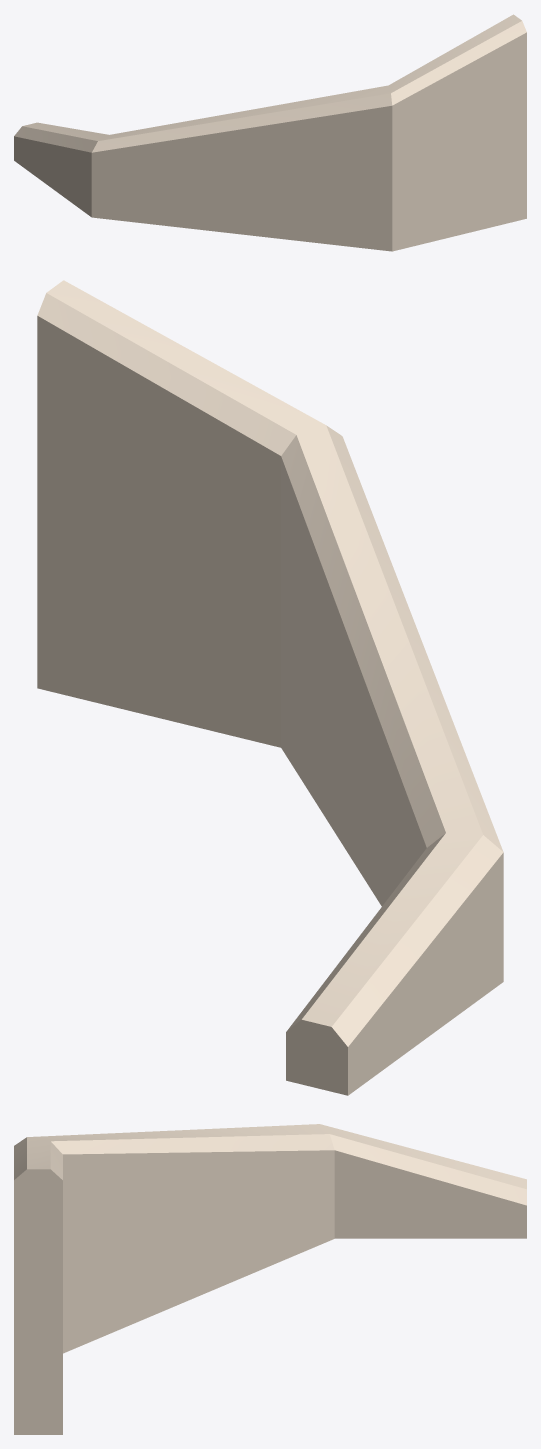
Rendered from temple_Stairs_Coping_Ramp_Curved_Large.glb.
3 views of the same model, one above another, from view 1: azimuth 30°, elevation 25°; view 2: azimuth 150°, elevation 25°; view 3: azimuth 270°, elevation 25° (orthographic). The views are drawn at different scales.
Visible parts, largest first — view 1: object1; view 2: object1; view 3: object1.
Part boxes in pixels (left/top/right/bottom): object1: left=14, top=14, right=526, bottom=251; object1: left=37, top=280, right=503, bottom=1095; object1: left=14, top=1124, right=526, bottom=1434.
Size of the model in its own units: 2.1 by 1.2 by 2.1.
